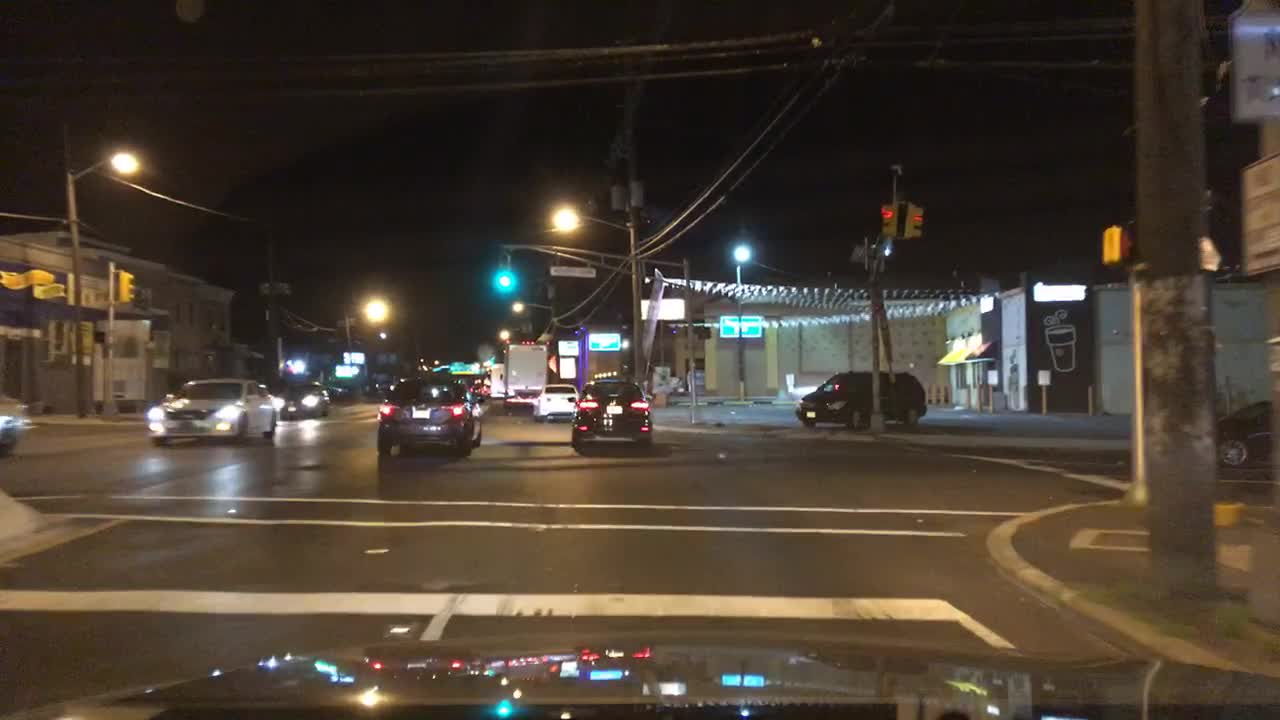car: (141, 374, 285, 447), (371, 374, 484, 463), (792, 367, 930, 432), (564, 374, 656, 455), (1211, 398, 1279, 474), (530, 379, 582, 424), (273, 383, 333, 421), (0, 404, 39, 456), (468, 379, 492, 404)
traffic light: (903, 200, 926, 239), (117, 268, 136, 304), (880, 202, 898, 236), (494, 266, 513, 292)
traffic sign: (1220, 0, 1278, 125), (1233, 150, 1276, 280), (719, 311, 766, 339), (547, 265, 598, 279), (449, 357, 486, 374)
truck: (502, 341, 551, 410), (488, 361, 506, 401)
